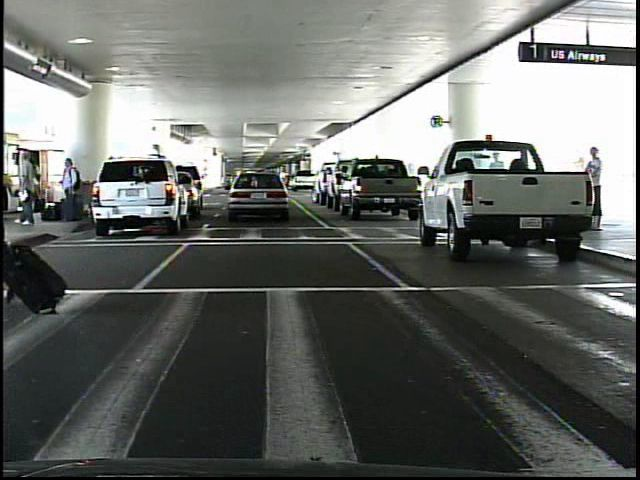person: (578, 146, 611, 232), (16, 150, 41, 226), (57, 157, 80, 224)
